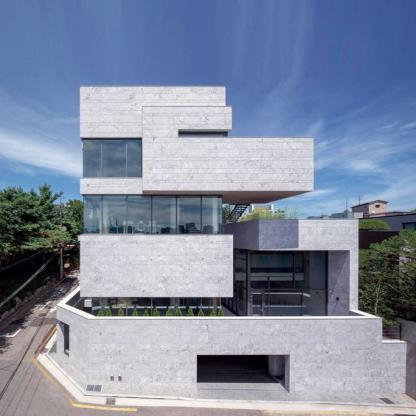Balcony: (56, 286, 381, 330), (178, 136, 314, 157), (383, 325, 402, 342)
Building Outline: (55, 85, 407, 395)
Door: (251, 290, 263, 321)
Facade: (55, 85, 408, 395)
Floor Slab: (81, 179, 313, 194), (234, 274, 302, 281)
Glass Wall: (222, 248, 326, 321), (84, 196, 221, 234), (93, 292, 221, 322), (221, 212, 353, 230), (83, 140, 142, 178), (179, 134, 226, 172)
